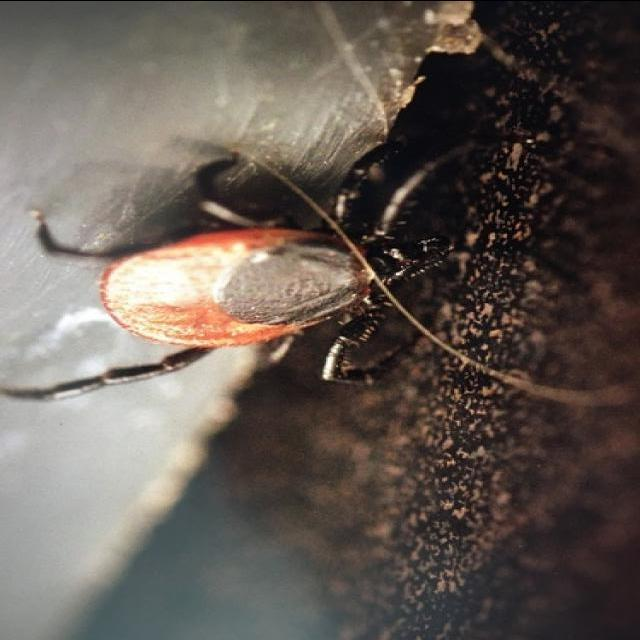Ixodes Ricinus-F: (0, 140, 459, 396)
